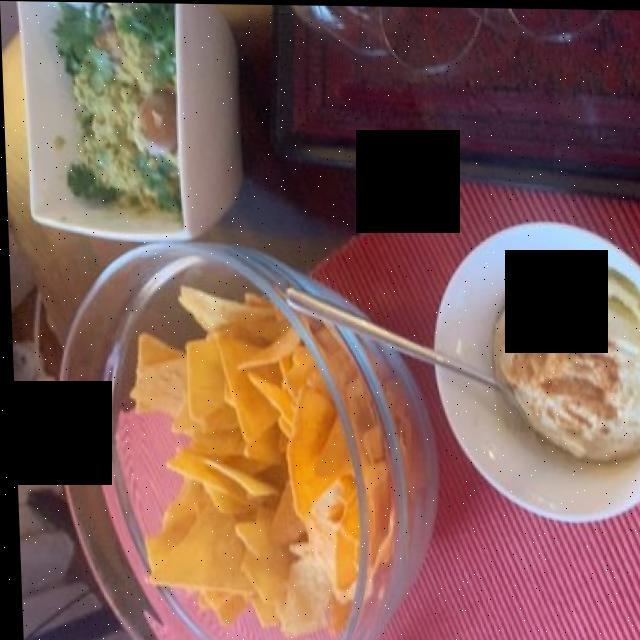corn-crisps: (128, 302, 353, 630)
guacamole: (52, 3, 174, 217)
hummus: (493, 260, 640, 456)
